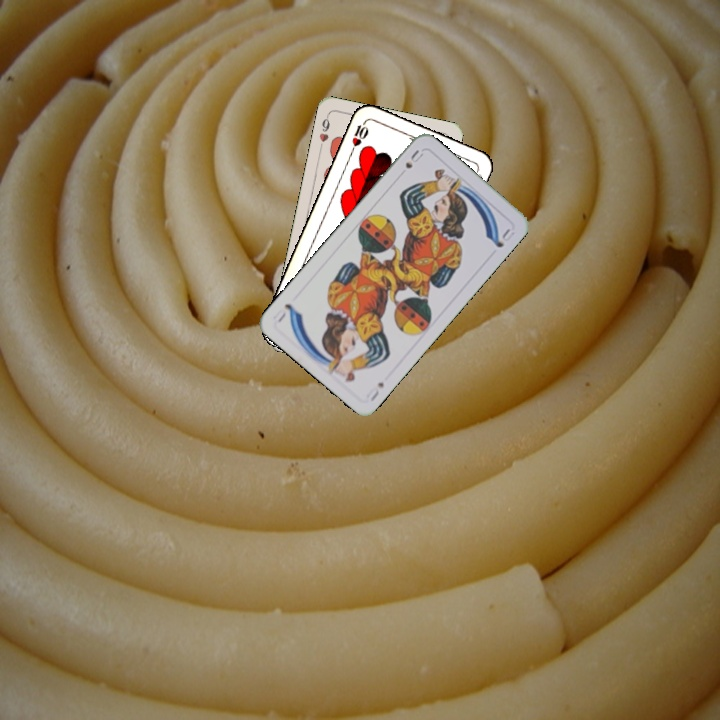H10: (347, 117, 371, 156)
H9: (315, 111, 332, 151)
SU: (395, 146, 426, 180), (362, 378, 387, 404)
